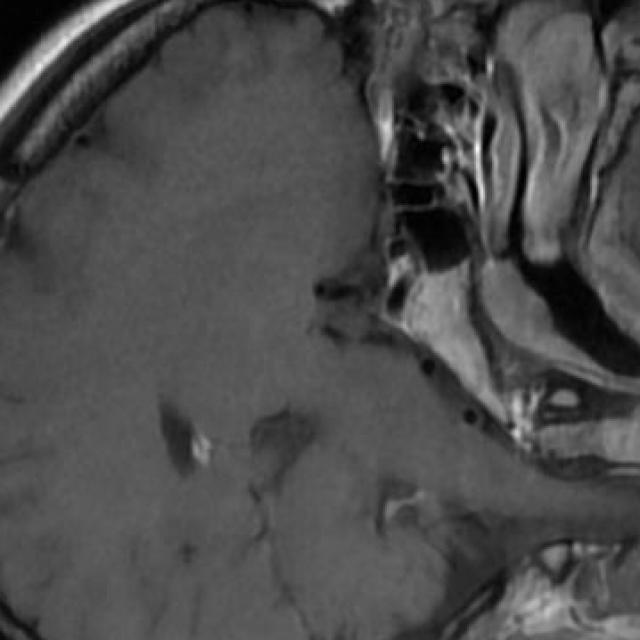pituitary: (387, 255, 510, 428)
